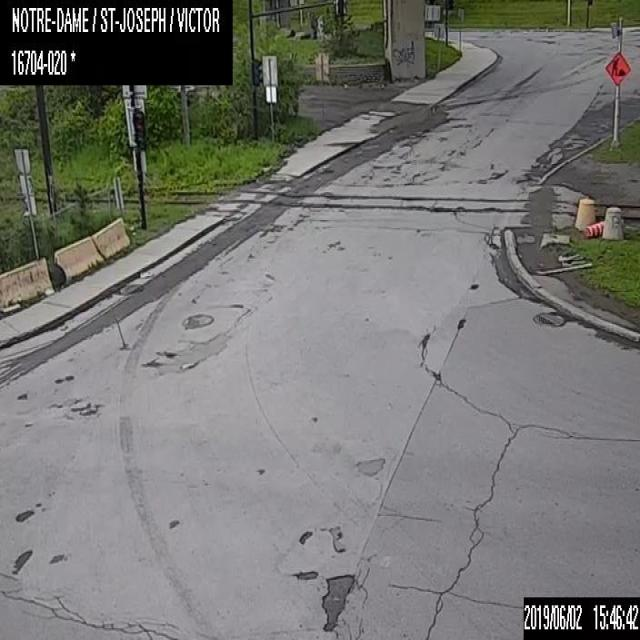construction: (604, 50, 630, 86), (584, 220, 604, 236)
